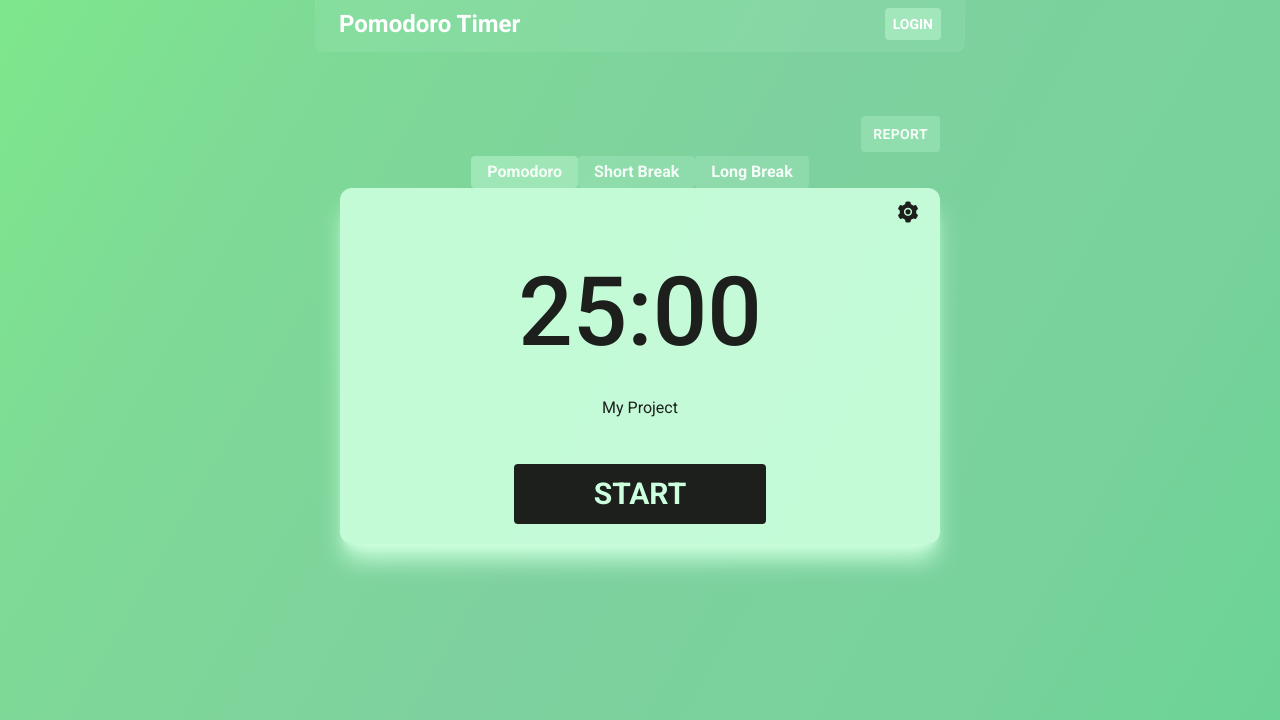
Scenario: Delete Timer › should delete another the timer
Click the button with test id "edit-button" at [908, 212], box [896, 200, 920, 224]
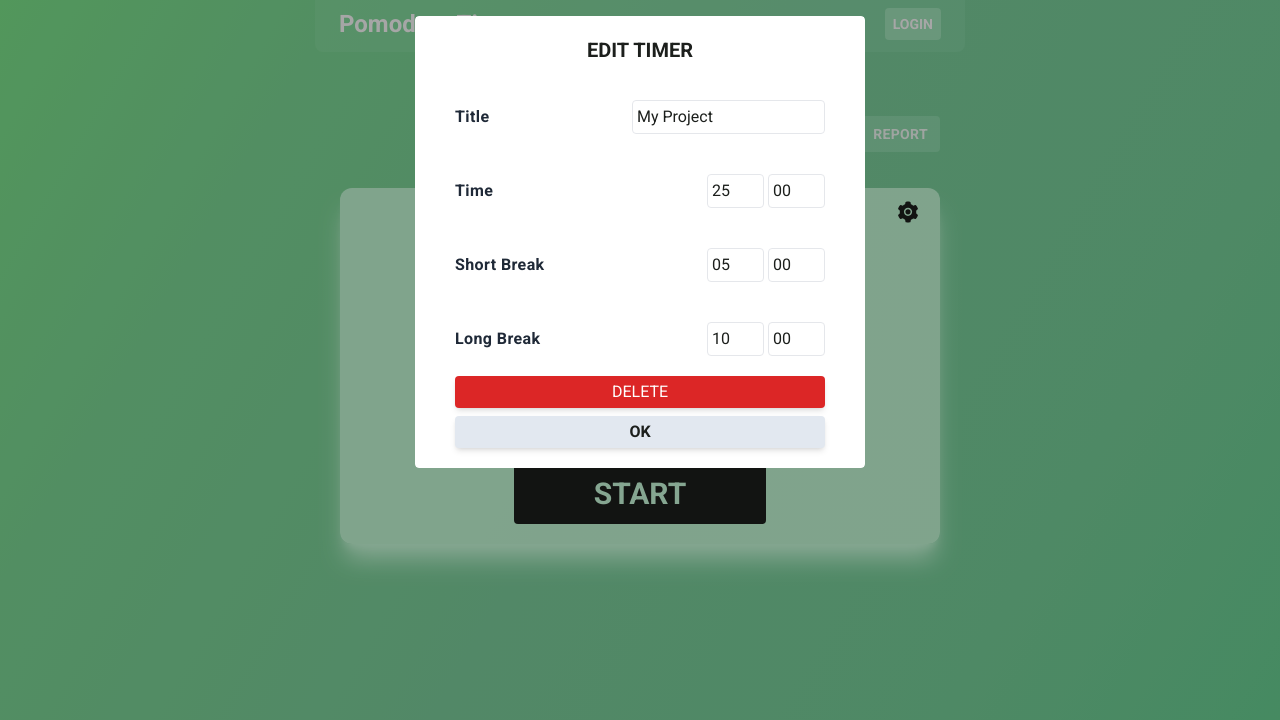
Result: the element with test id "modal" is shown at [415, 16, 865, 468]
Replace the text in the field with test id "input-title" with "Testing" at [729, 117], box [632, 100, 825, 134]
Click the button with test id "edit-submit" at [640, 432], box [455, 416, 825, 448]
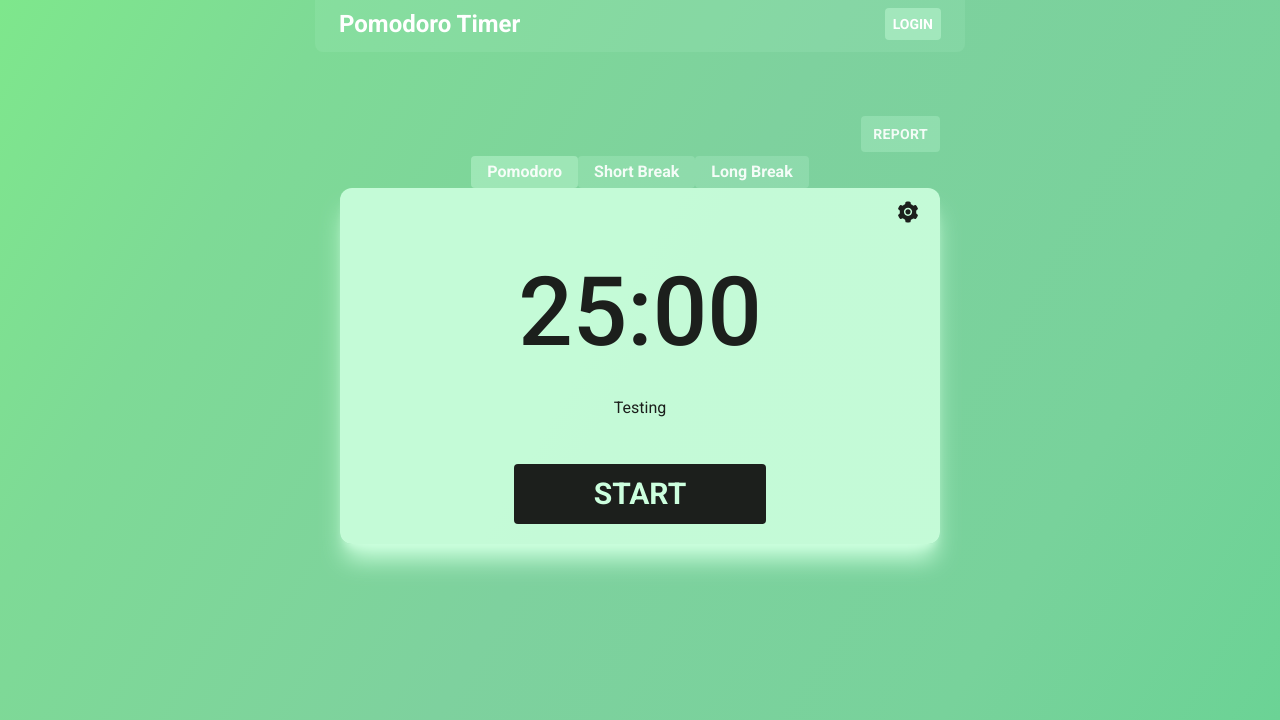
Click the button with test id "timer-title" at [640, 408], box [560, 392, 720, 424]
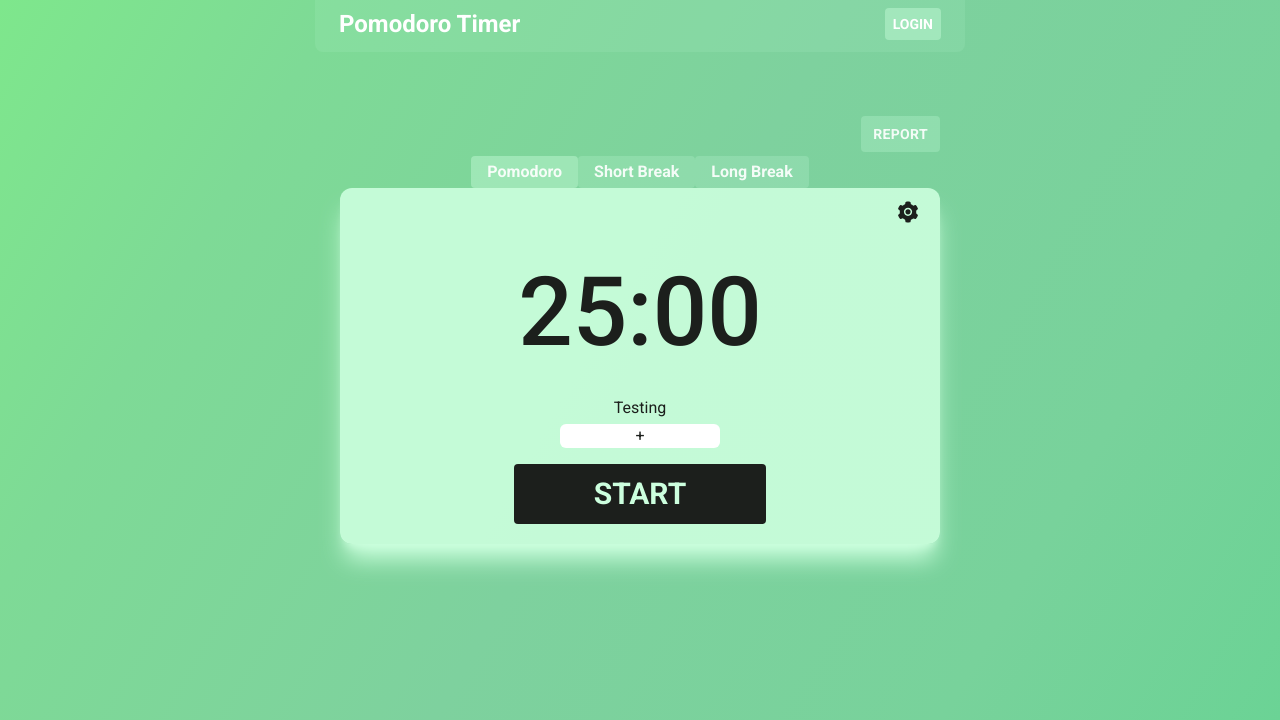
Result: the button with test id "add-timer" is shown
Click the button with test id "add-timer" at [640, 436], box [560, 424, 720, 448]
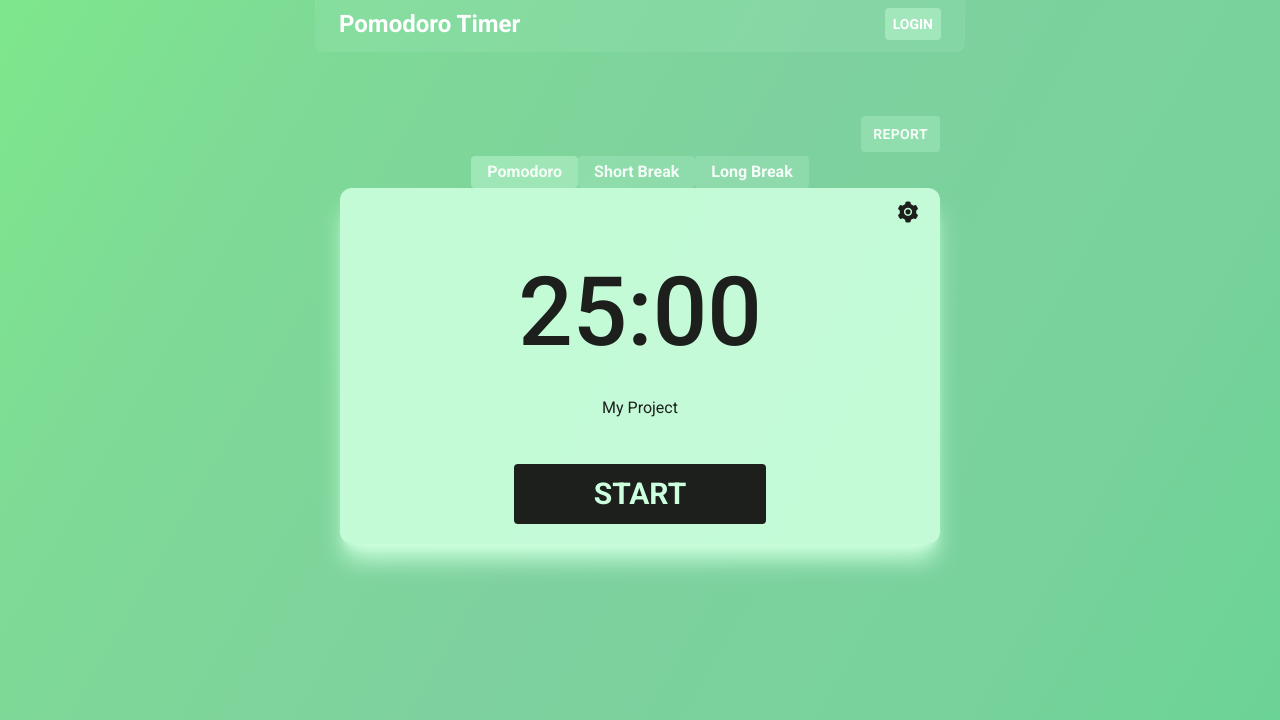
Expected: the text with test id "display-timer" reads "25:00", [518, 264, 762, 360]
Result: the button with test id "timer-title" reads "My Project" at [560, 392, 720, 424]
Click the button with test id "edit-button" at [908, 212], box [896, 200, 920, 224]
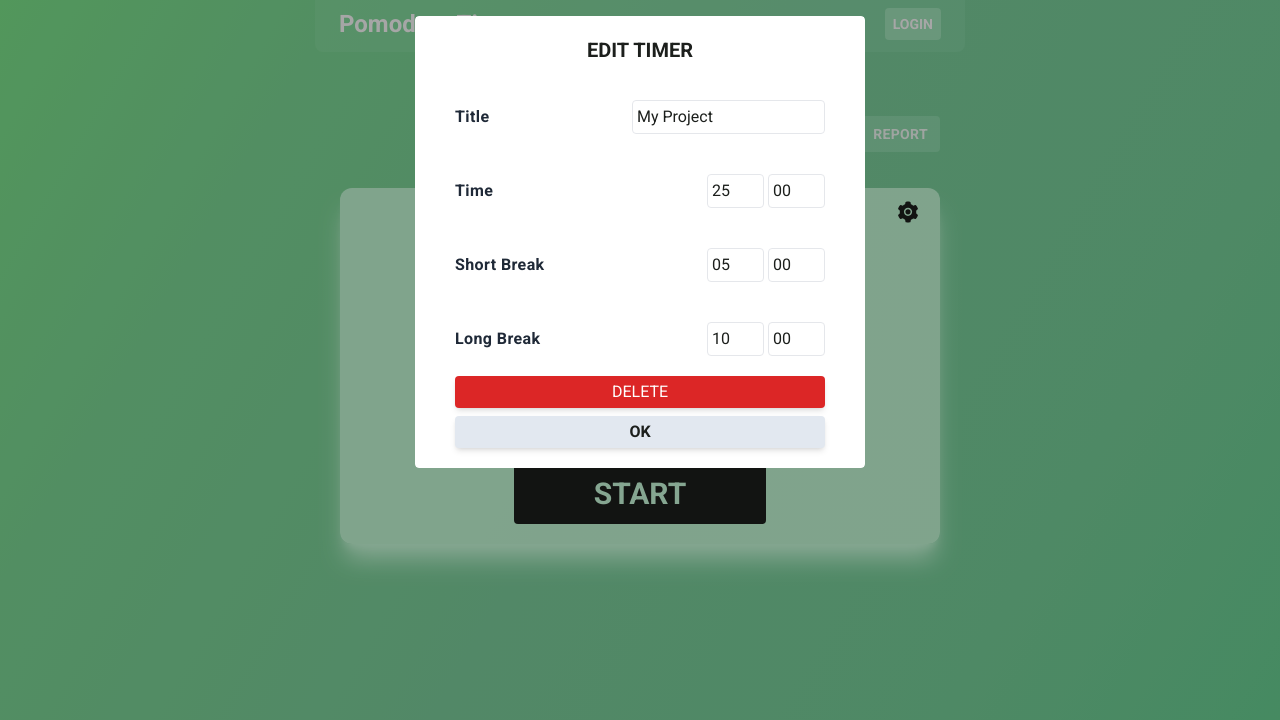
Result: the element with test id "modal" is shown at [415, 16, 865, 468]
Result: the button with test id "delete-button" is shown
Click the button with test id "delete-button" at [640, 392], box [455, 376, 825, 408]
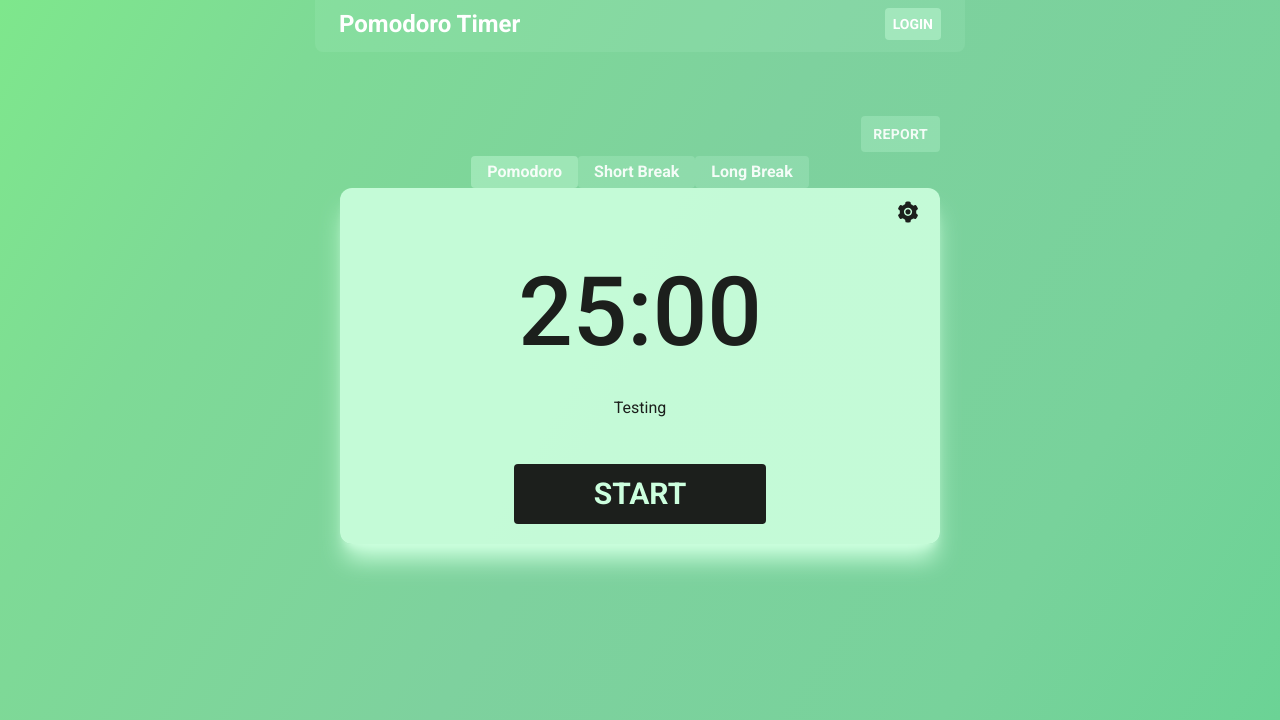
Expected: the text with test id "display-timer" reads "25:00", [518, 264, 762, 360]
Result: the button with test id "timer-title" reads "Testing" at [560, 392, 720, 424]
